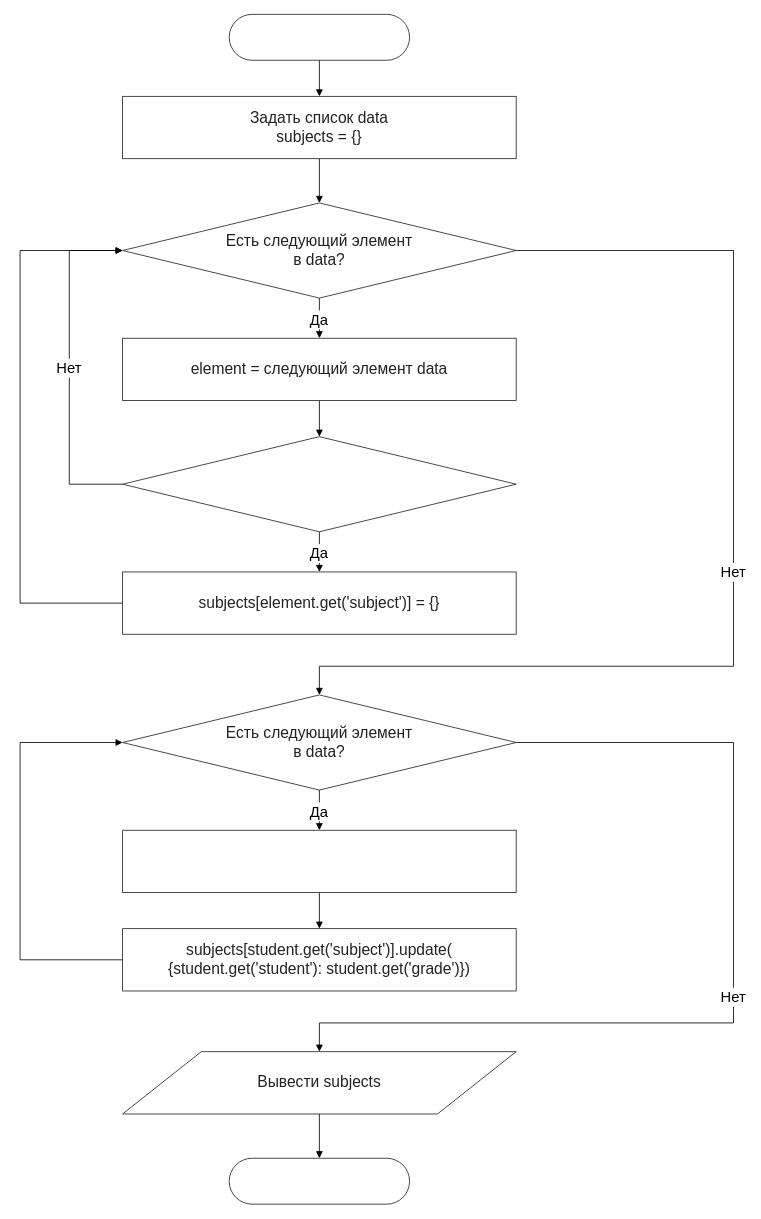
This 761x1219 diagram has some shape labels left out. Each missing label, with the centre of its shape:
element.get('subject') not in subjects?: pixel 319 484
student = следующий элемент data: pixel 319 861
Конец: pixel 319 1180
Начало: pixel 319 37
